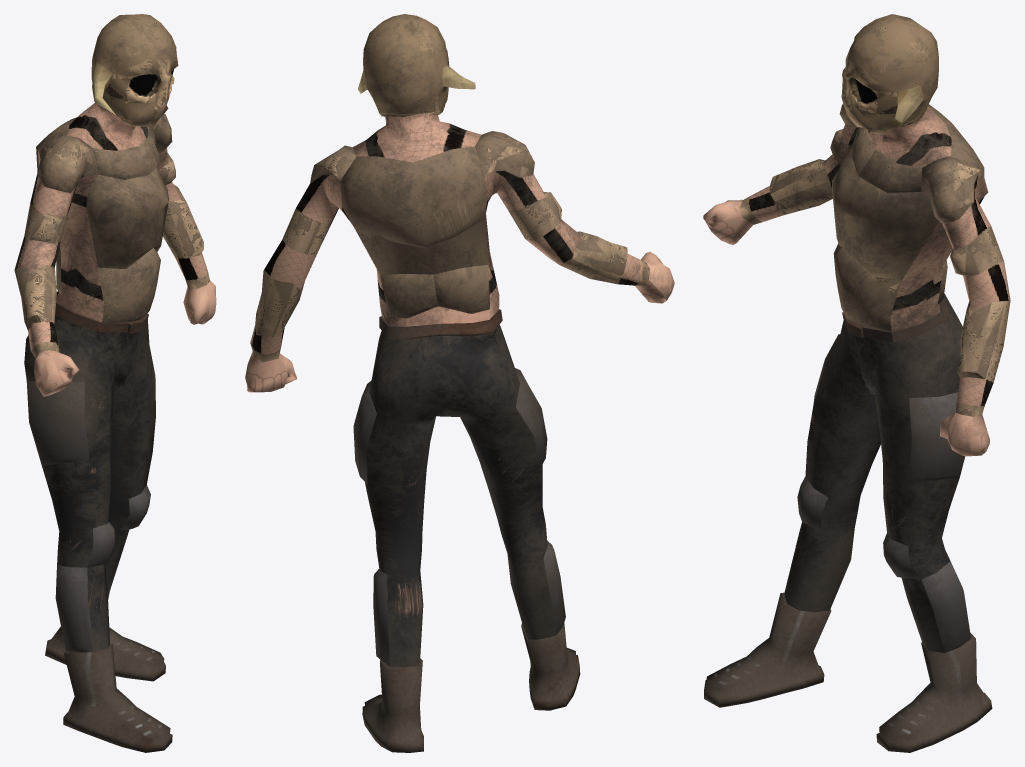
File: Anim_interruptor_npc1.0032.obj
3 renders of one model, left to right at view 1: azimuth 30°, elevation 25°; view 2: azimuth 150°, elevation 25°; view 3: azimuth 270°, elevation 25°, orthographic. The views are drawn at different scales.
Parts seen in each view (by area): view 1: NPC2; view 2: NPC2; view 3: NPC2.
Part boxes in pixels (x1,y1,x2,y2): NPC2: (14,14,216,752); NPC2: (245,14,674,752); NPC2: (703,14,1010,752).
Bounding box in the file's own units: 4.39 × 9.55 × 3.71.
